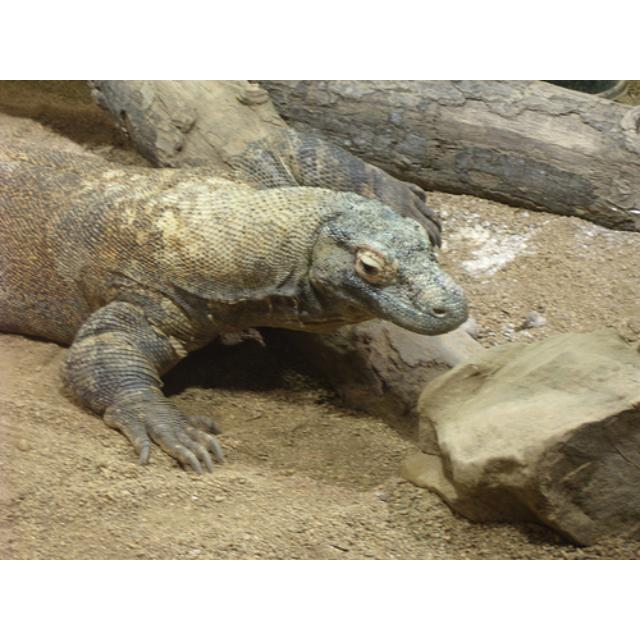KomodoDragon: (1, 110, 468, 472)
